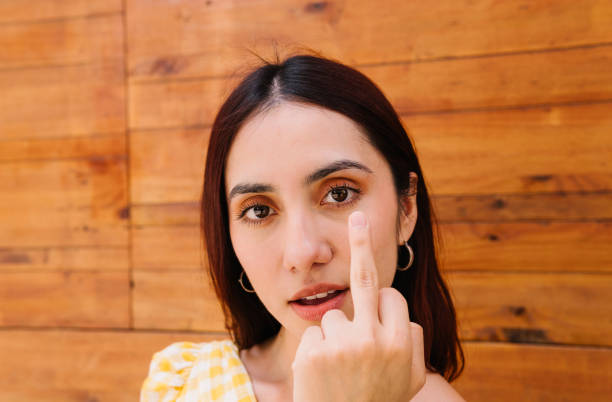insulting_gesture: (290, 209, 428, 402)
